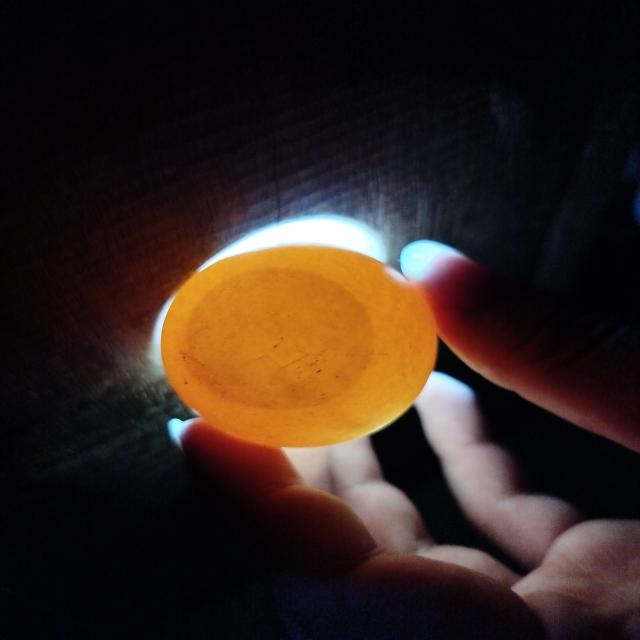Camara de Ar: (183, 268, 374, 408)
Rachadura: (256, 338, 308, 367)
